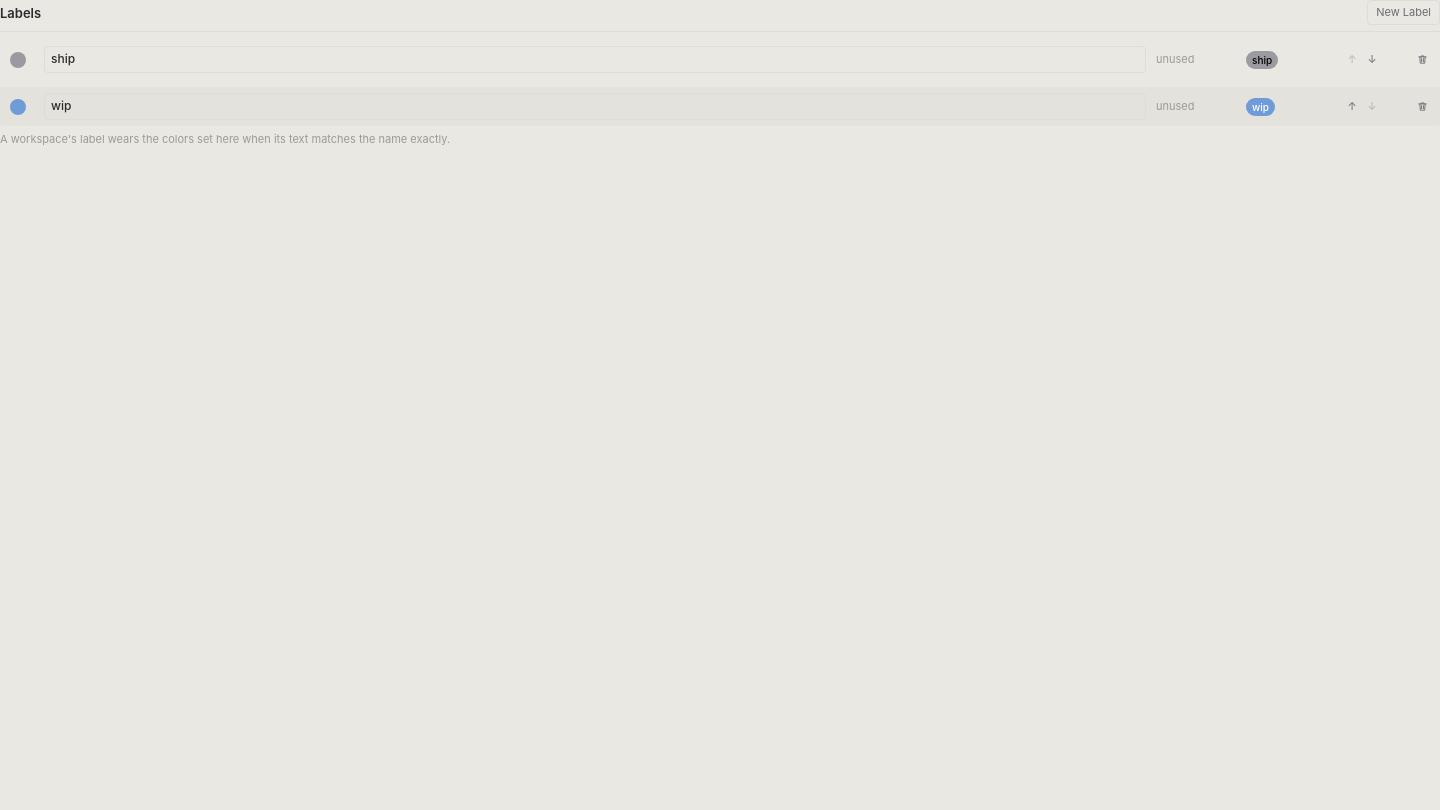
the custom view (§N38) › keeps a half-typed hex on screen and sends only the valid ones
Click the button with test id "label-color-ship-trigger" at (18, 60), box x1=10 y1=52 x2=26 y2=68
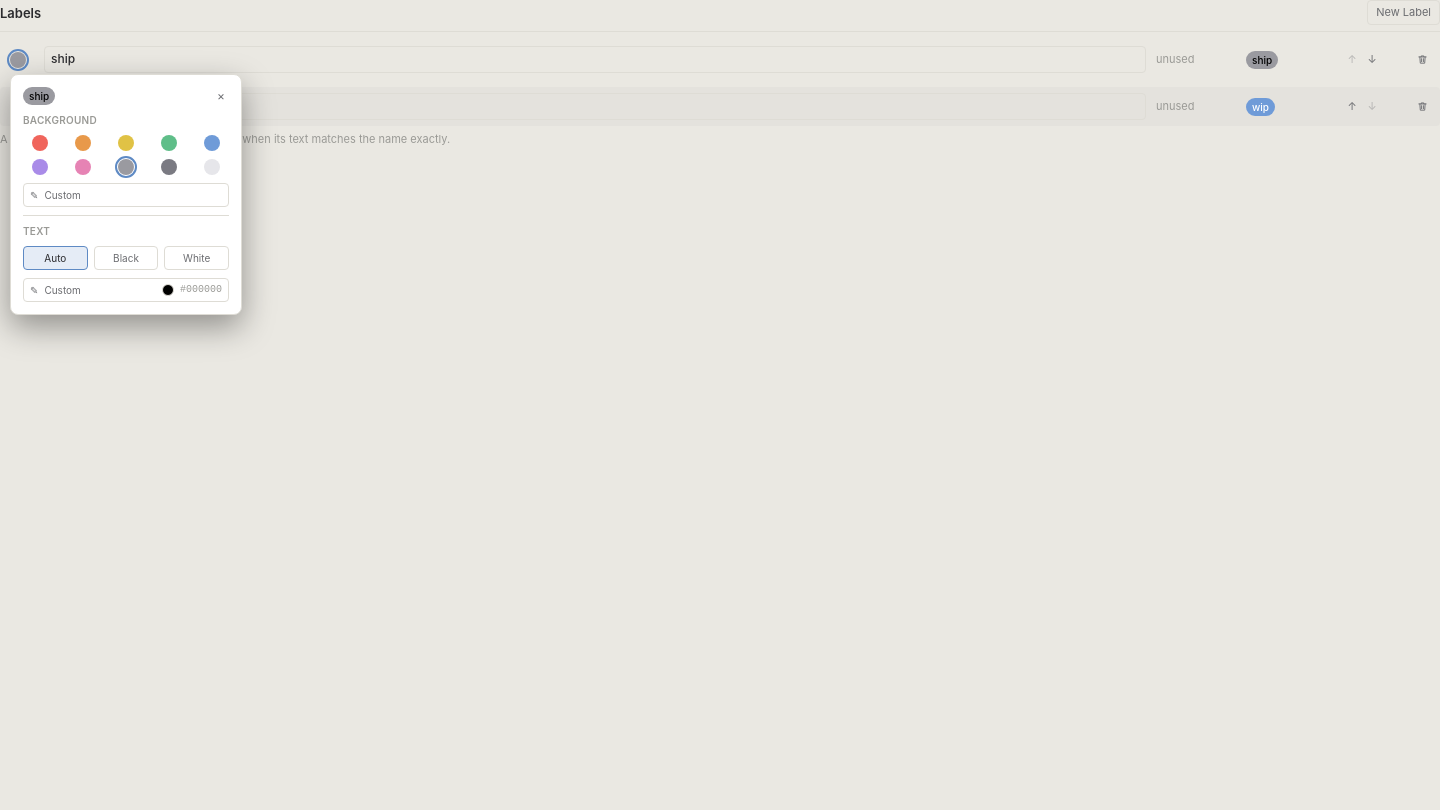
Click the button with test id "label-flyover-bg-custom" at (126, 195), box x1=23 y1=183 x2=229 y2=207
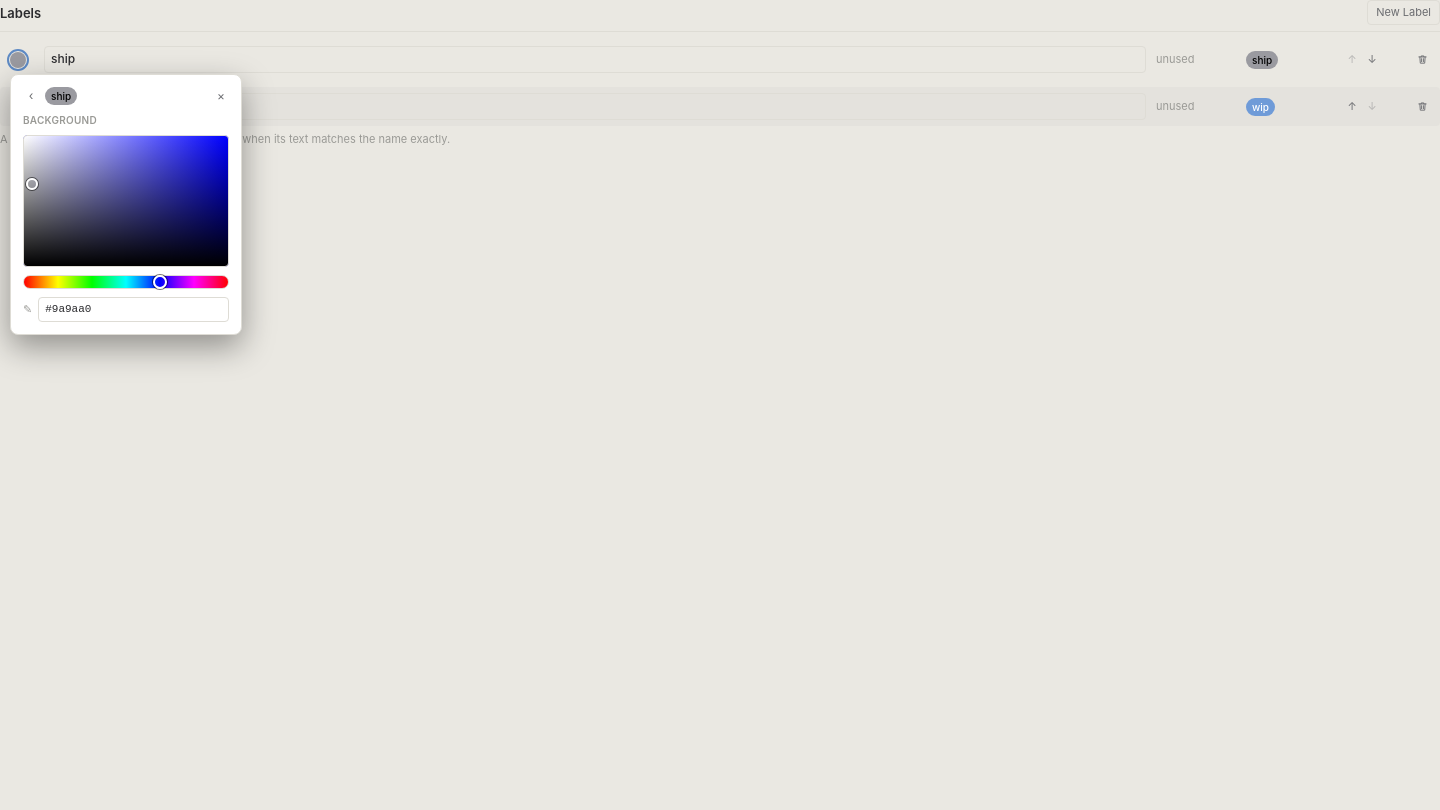
Replace the text in the field with test id "label-flyover-hex" with "#f" at (134, 310), box x1=38 y1=297 x2=229 y2=322
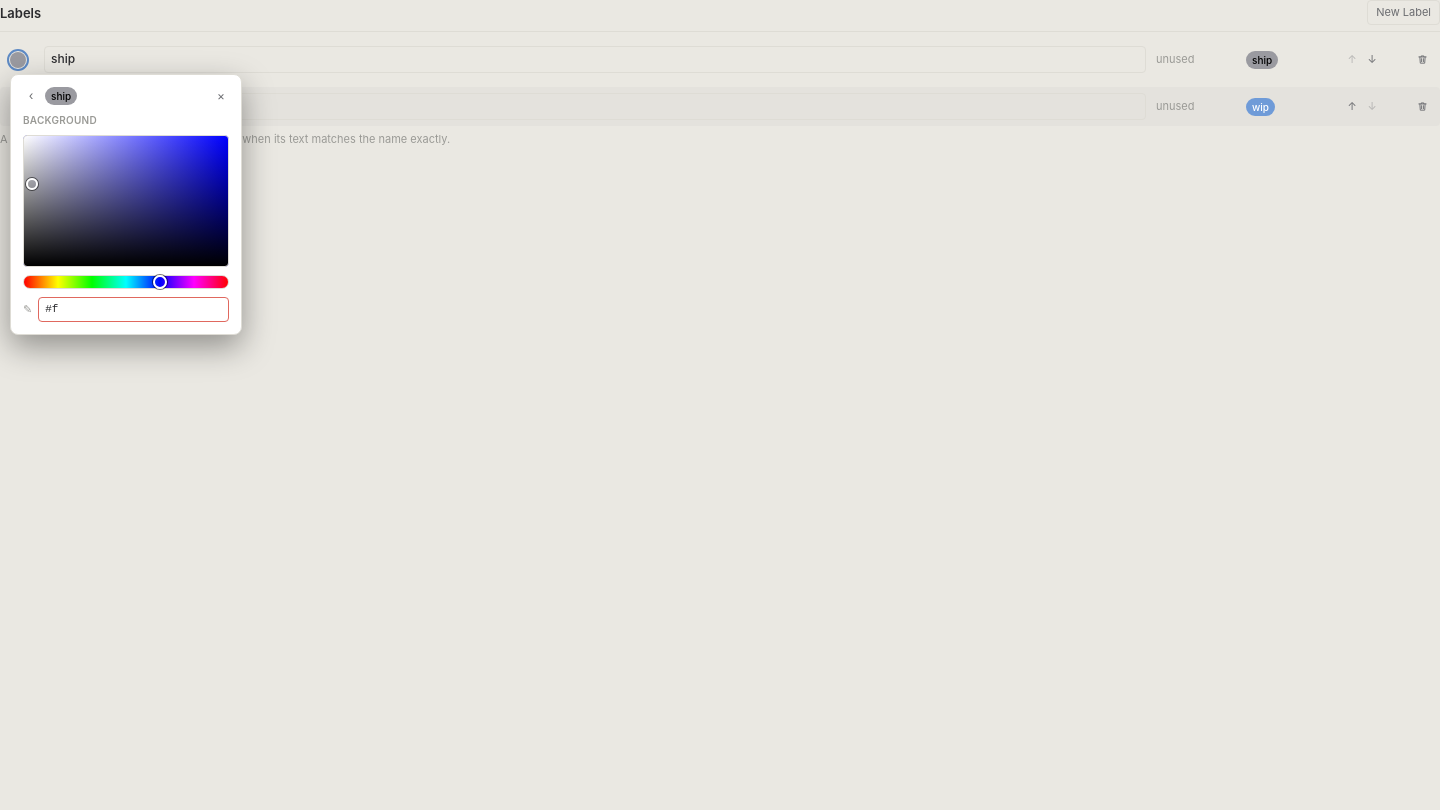
Replace the text in the field with test id "label-flyover-hex" with "#f80" at (134, 310), box x1=38 y1=297 x2=229 y2=322
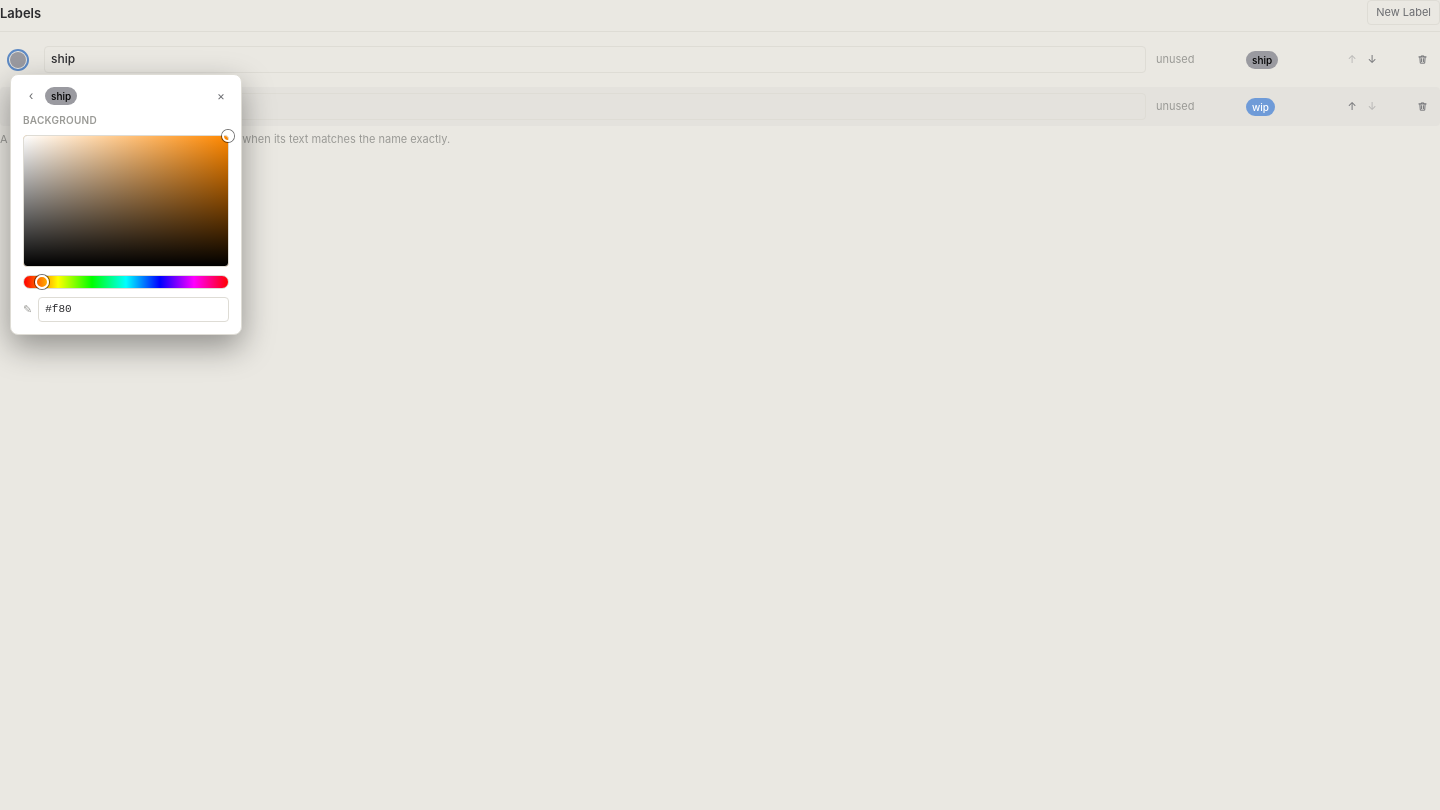
Leave the field with test id "label-flyover-hex", box x1=38 y1=297 x2=229 y2=322
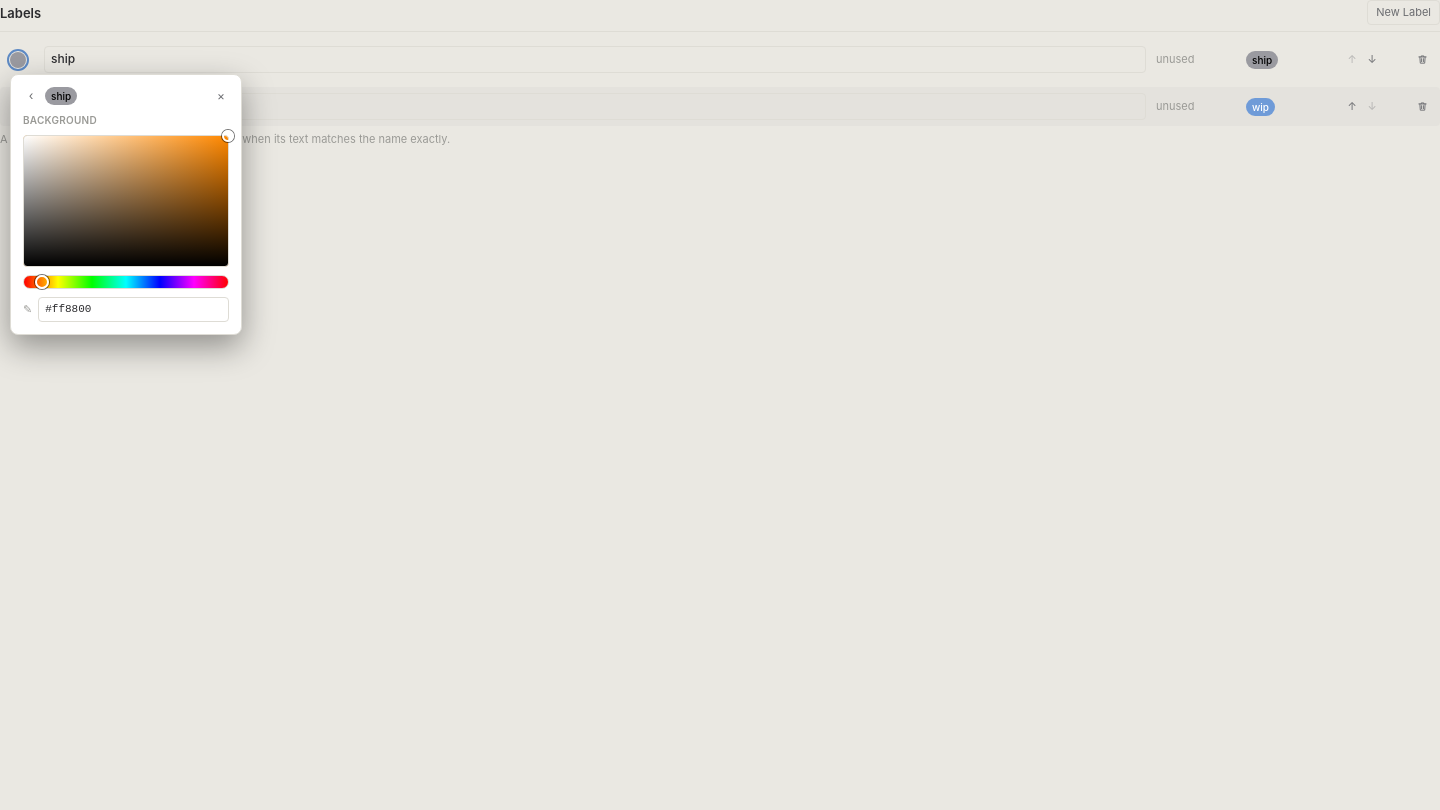
Expected: the field with test id "label-flyover-hex" holds "#ff8800", x1=38 y1=297 x2=229 y2=322
